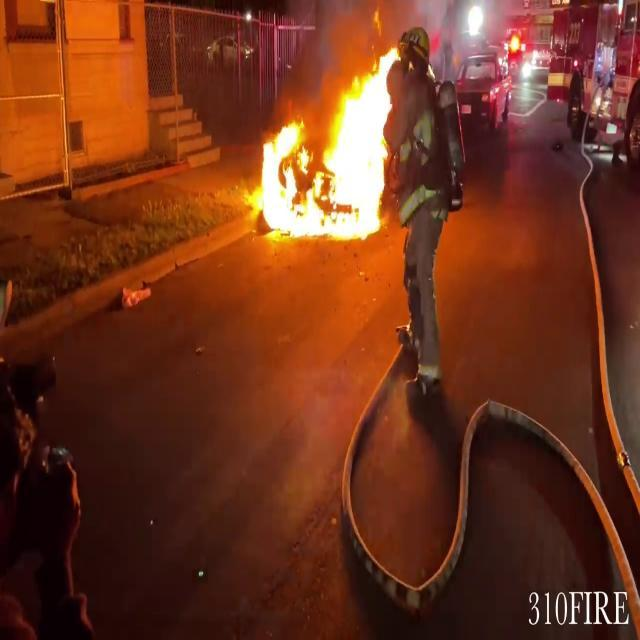Fire: (249, 29, 407, 246)
